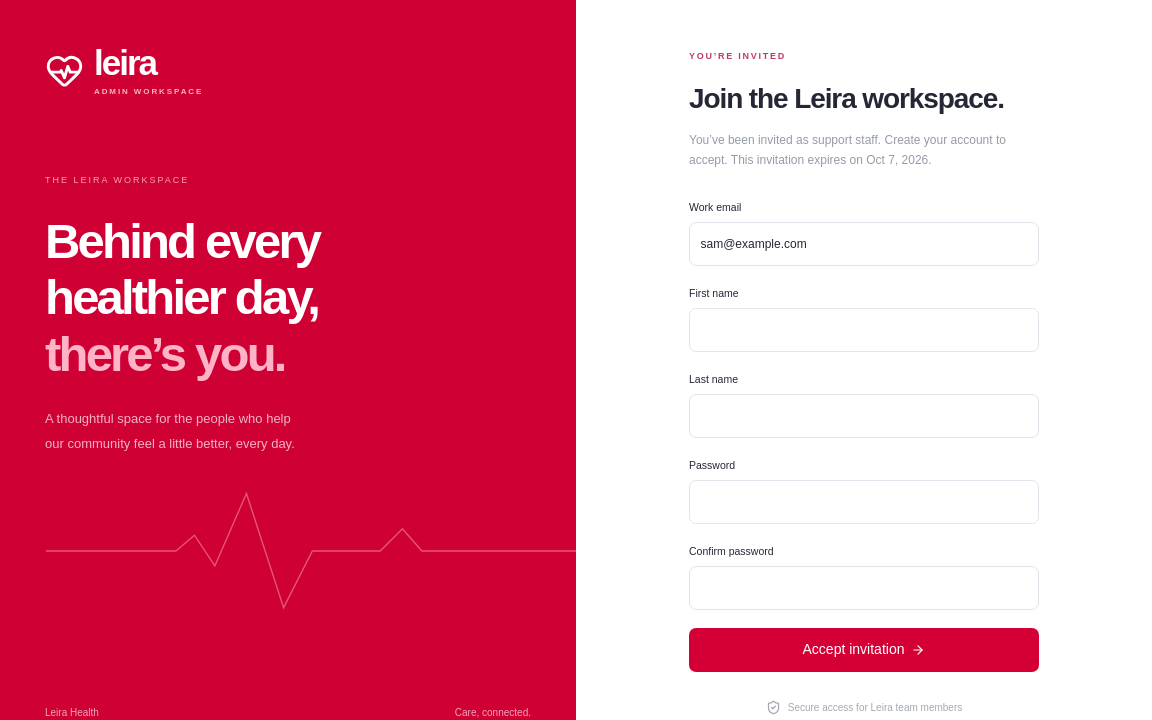
Test: workspace workflows › accepts a staff invitation from the emailed link
Check: the heading "Join the Leira workspace." is shown, box x1=689 y1=78 x2=1039 y2=120
Check: the field labelled "Work email" holds "sam@example.com", box x1=689 y1=222 x2=1039 y2=266
Type "Sam" into the field labelled "First name" at (864, 330), box x1=689 y1=308 x2=1039 y2=352
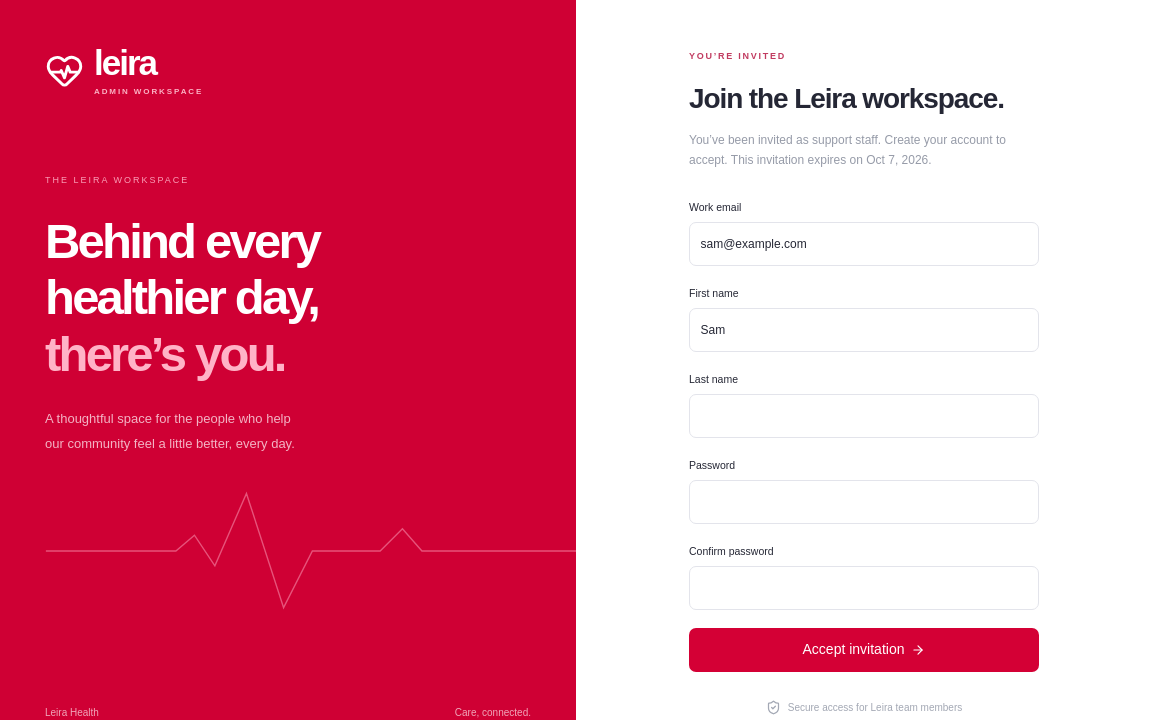
Type "Carter" into the field labelled "Last name" at (864, 416), box x1=689 y1=394 x2=1039 y2=438
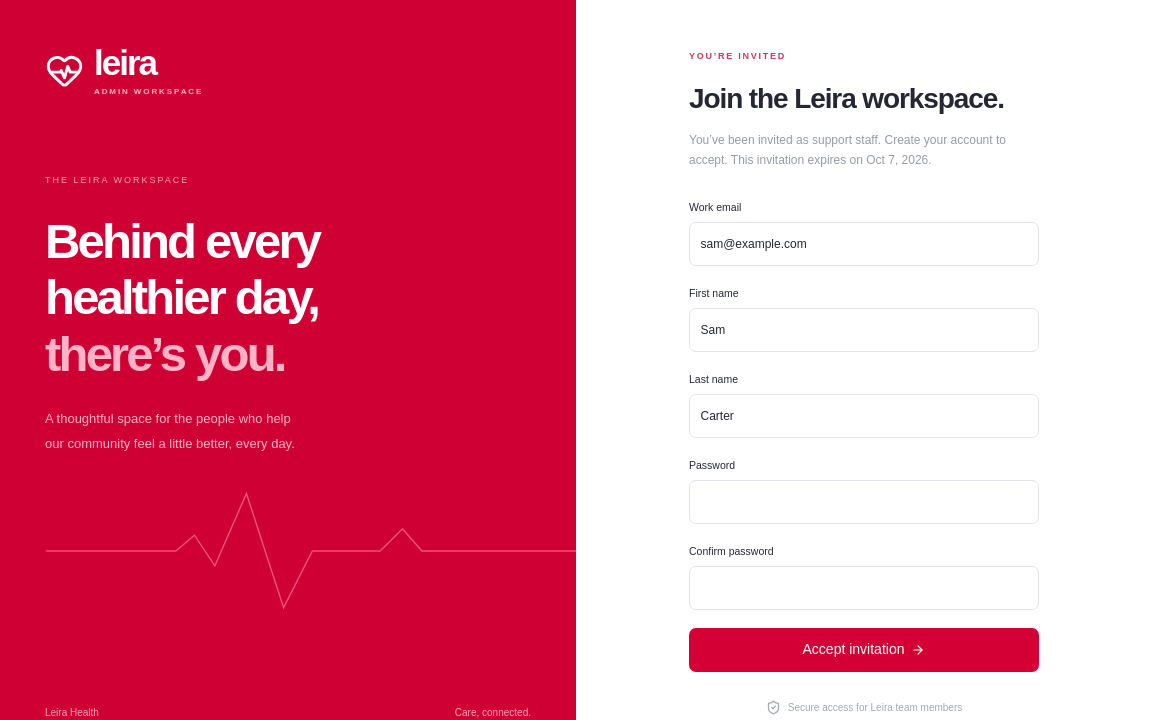
Type "Str0ngPass!" into the password field labelled "Password" at (864, 502), box x1=689 y1=480 x2=1039 y2=524
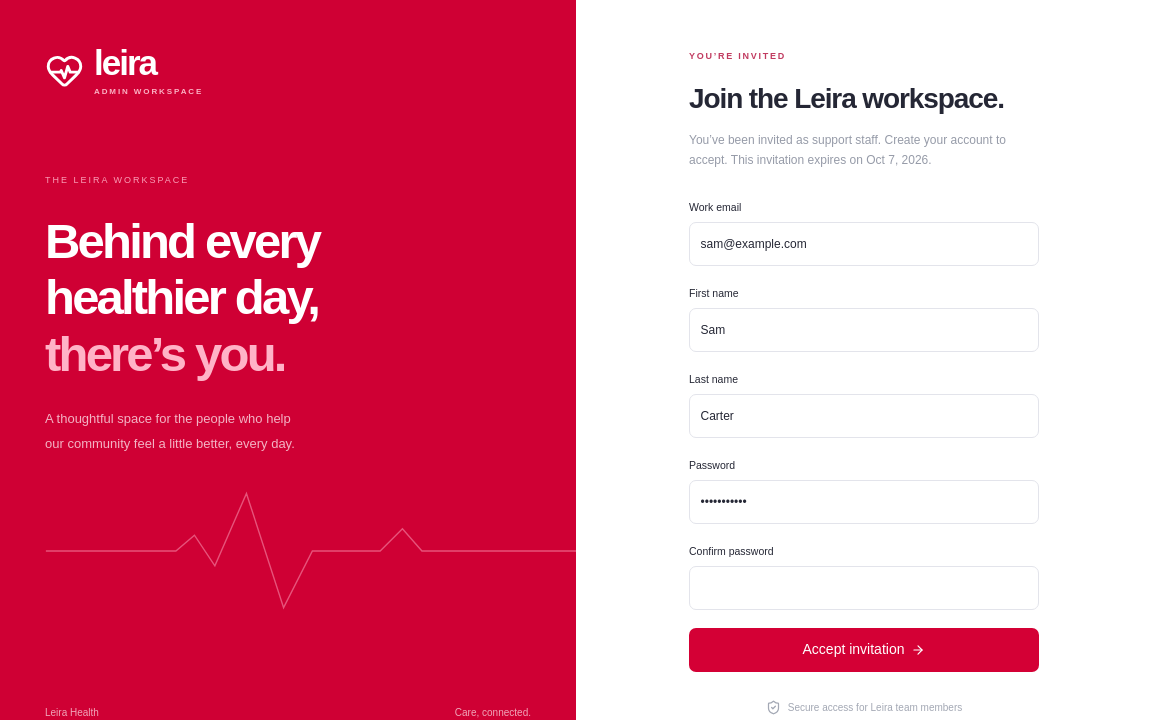
Type "Str0ngPass!" into the password field labelled "Confirm password" at (864, 588), box x1=689 y1=566 x2=1039 y2=610
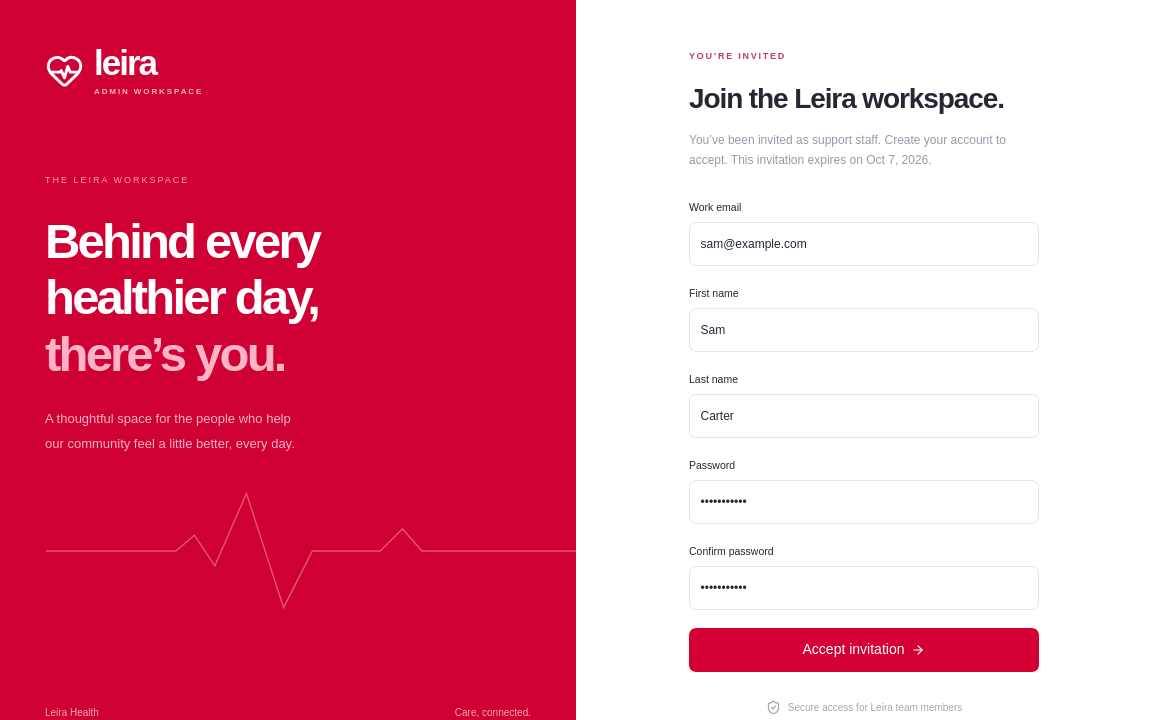
Click the button "Accept invitation" at (864, 650), box x1=689 y1=628 x2=1039 y2=672
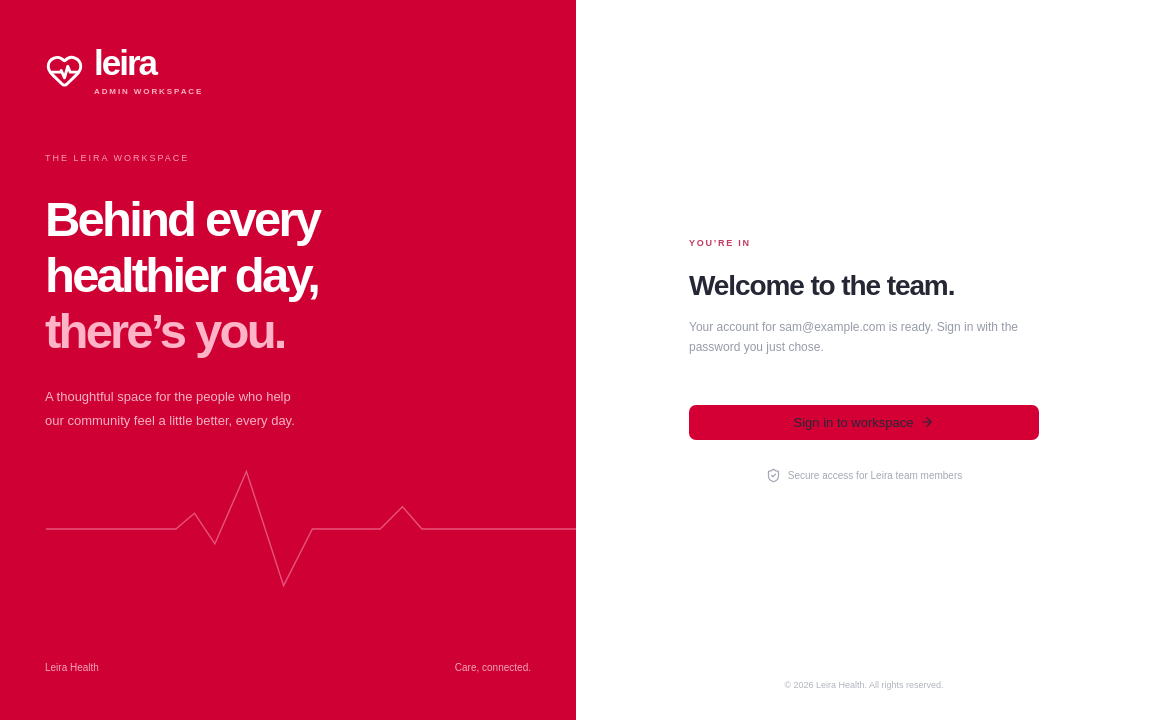
Check: the heading "Welcome to the team." is shown, box x1=689 y1=270 x2=954 y2=301
